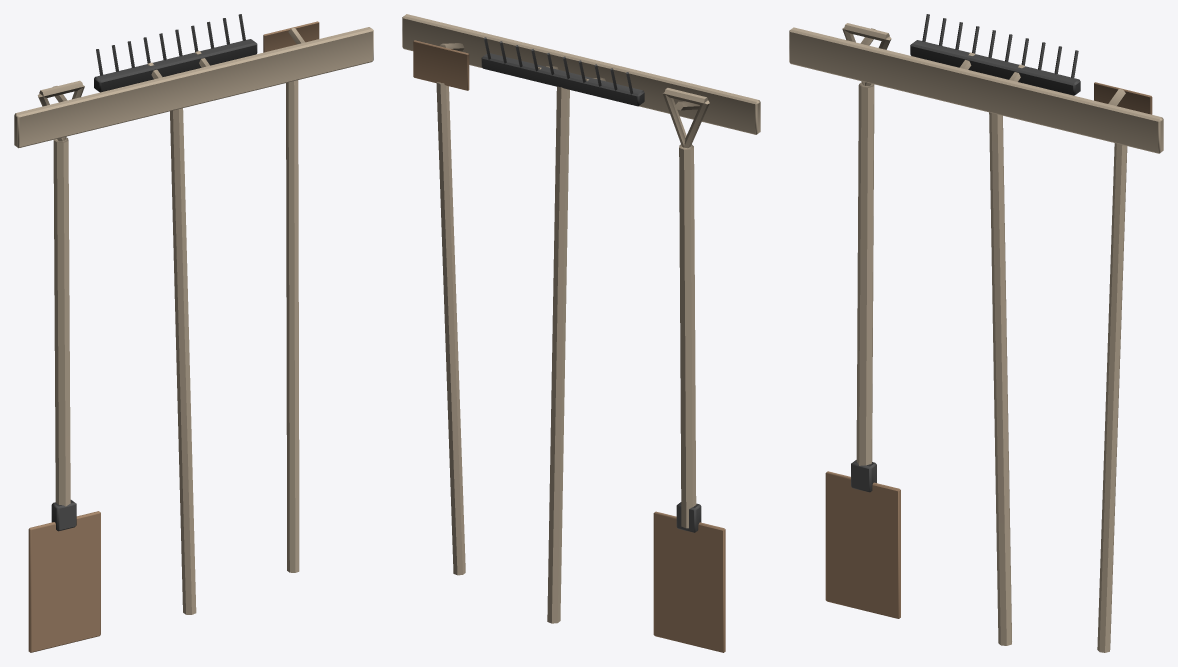
The model's file is garden_tools.glb.
3 views of the same model, side by side, from view 1: azimuth 30°, elevation 25°; view 2: azimuth 150°, elevation 25°; view 3: azimuth 330°, elevation 25° (orthographic). The views are drawn at different scales.
Visible parts, largest first — view 1: static; view 2: static; view 3: static.
Boxes of the visible parts, x1=… form: static: x1=14, y1=14, x2=373, y2=652; static: x1=402, y1=14, x2=760, y2=652; static: x1=789, y1=14, x2=1163, y2=652.
Size of the model in its own units: 0.9 by 1.39 by 0.1238.
